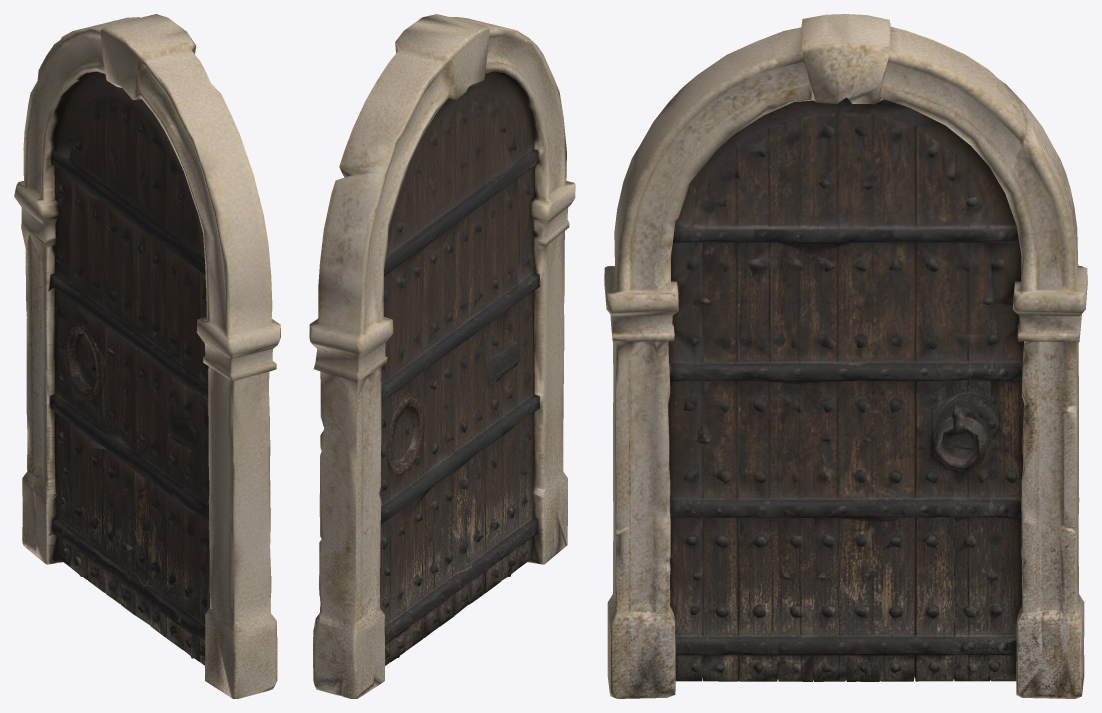
The model's file is door.glb.
3 renders of one model, left to right at view 1: azimuth 30°, elevation 25°; view 2: azimuth 150°, elevation 25°; view 3: azimuth 270°, elevation 25°, orthographic. The views are drawn at different scales.
Parts seen in each view (by area): view 1: tripo_node_f81579b3-2621-4af4-b757-ac6d0df847a6; view 2: tripo_node_f81579b3-2621-4af4-b757-ac6d0df847a6; view 3: tripo_node_f81579b3-2621-4af4-b757-ac6d0df847a6.
Part boxes in pixels (x1,y1,x2,y2): tripo_node_f81579b3-2621-4af4-b757-ac6d0df847a6: (14,14,280,698); tripo_node_f81579b3-2621-4af4-b757-ac6d0df847a6: (309,14,575,698); tripo_node_f81579b3-2621-4af4-b757-ac6d0df847a6: (604,14,1087,698).
Size of the model in its own units: 0.1868 by 1.8 by 1.2.
Materials: 1 (1 with a texture image).
